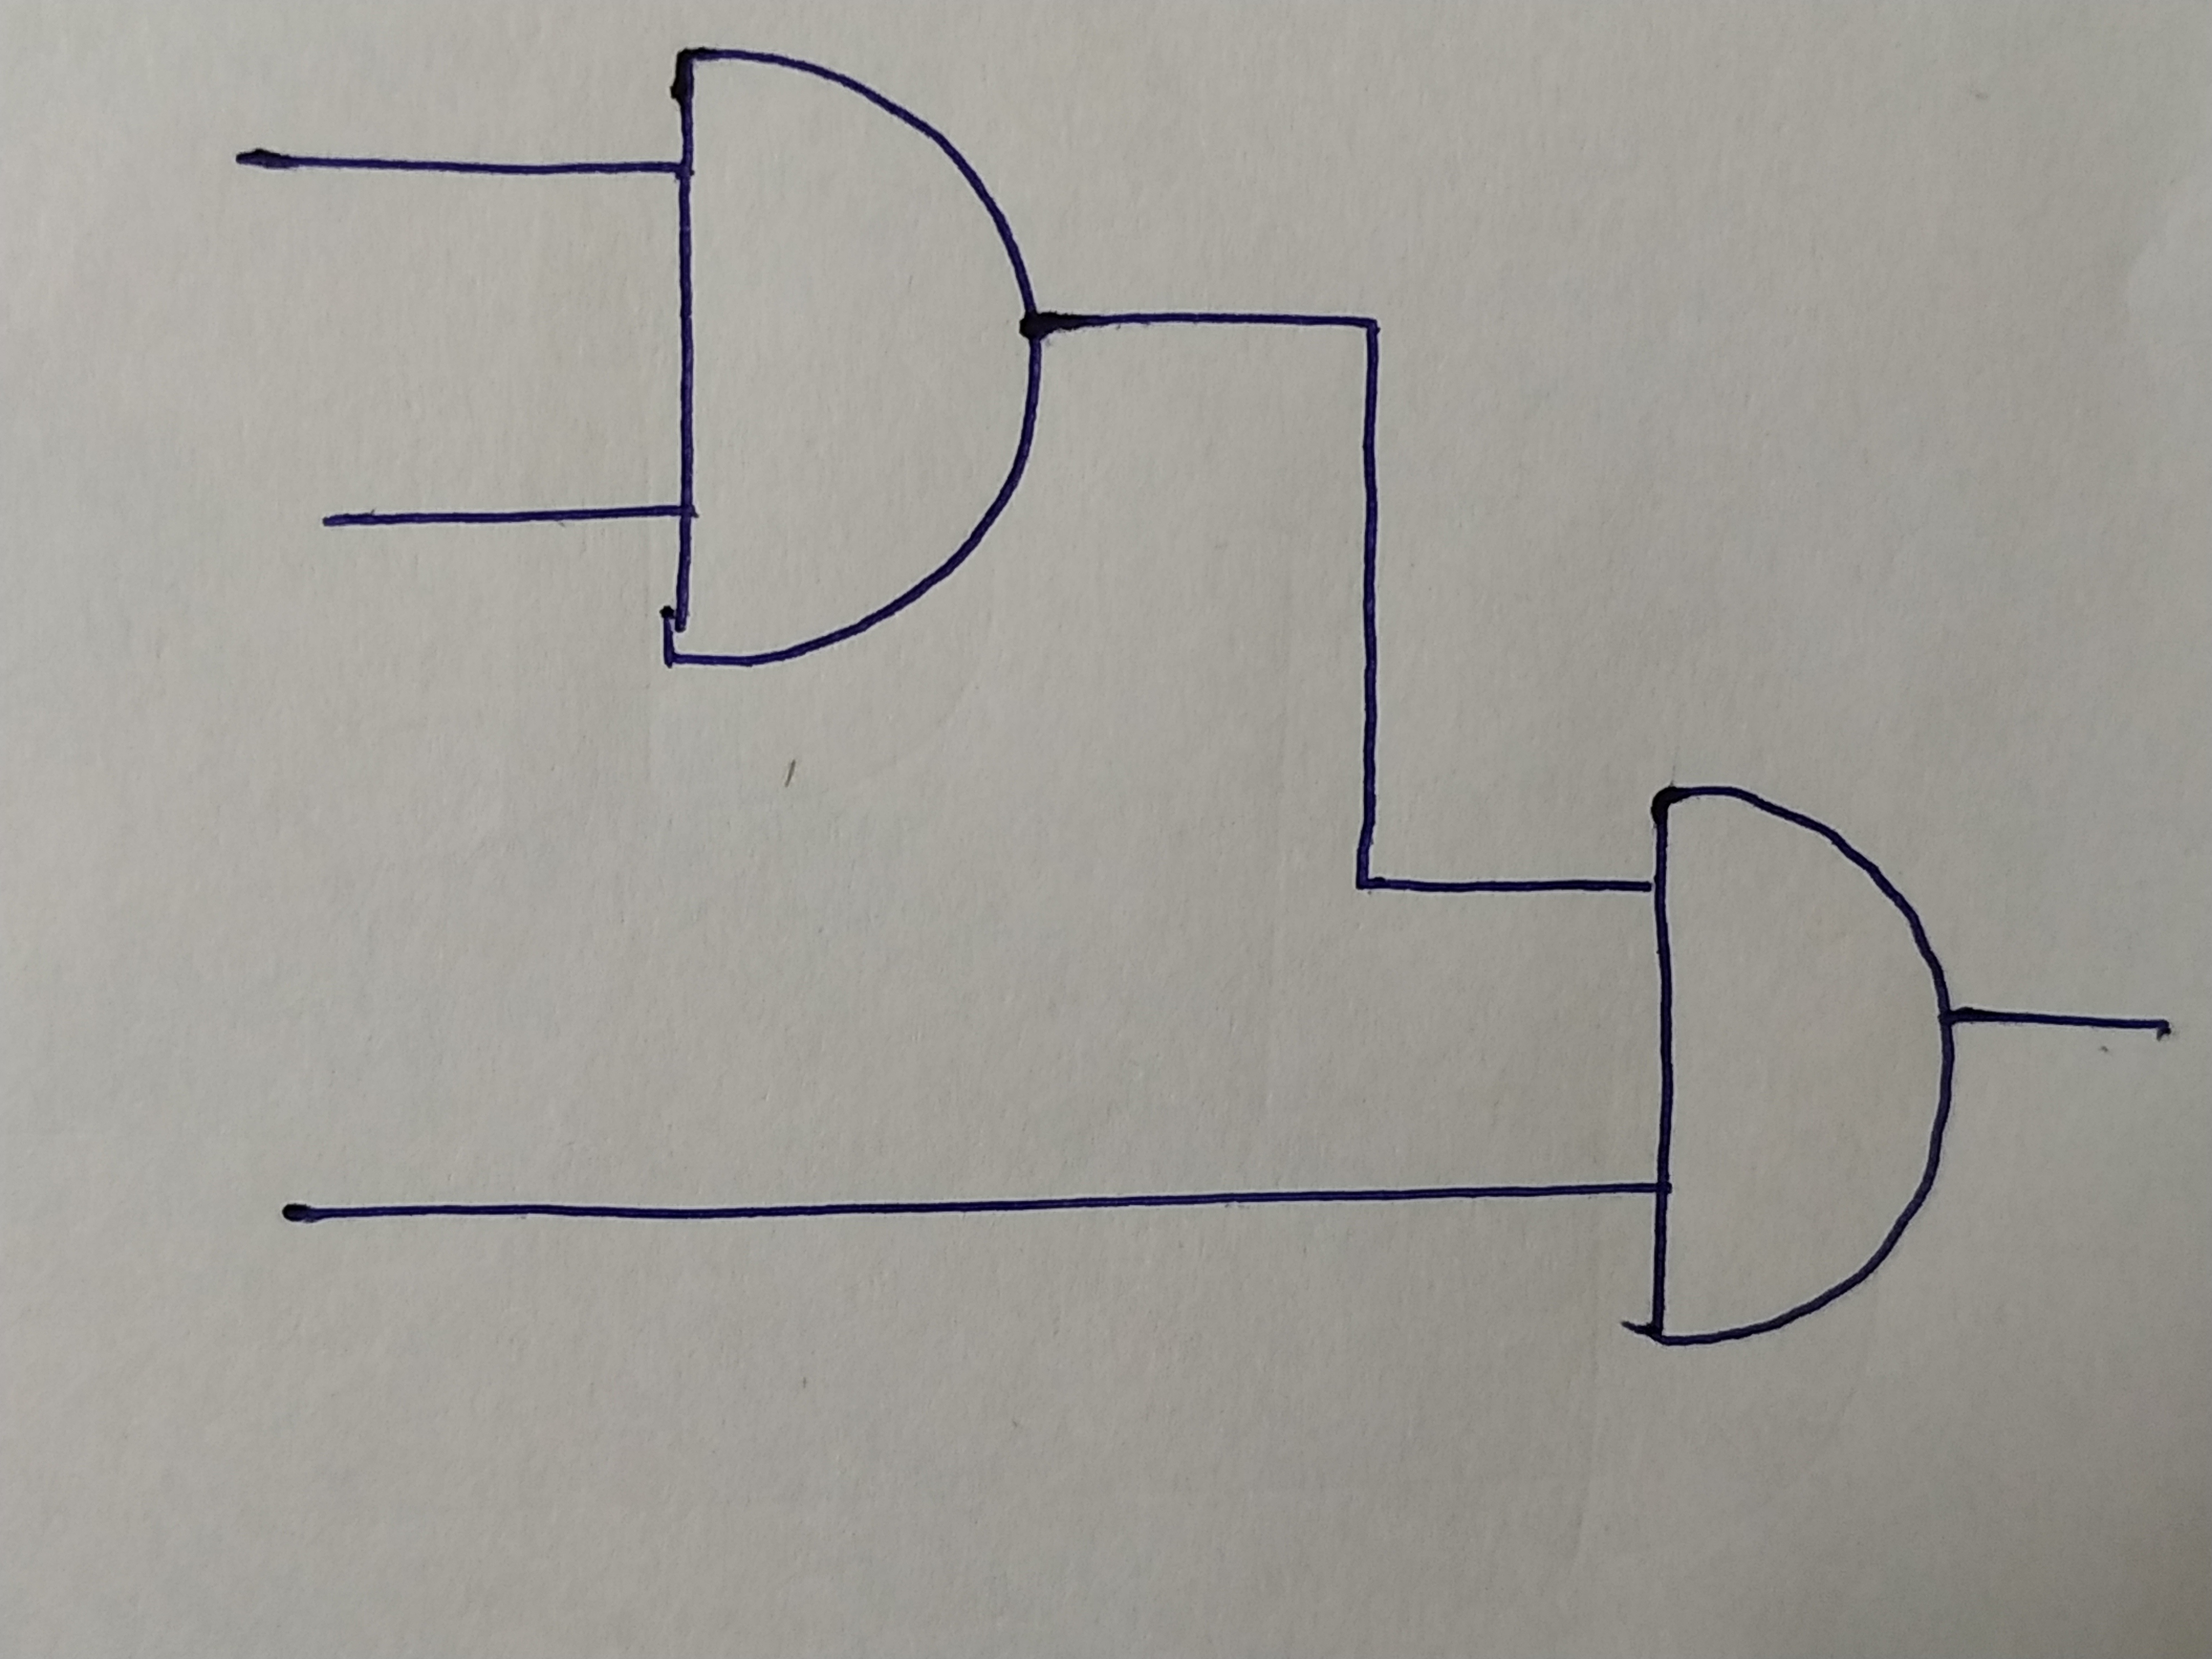and: (665, 45, 1029, 673), (1646, 784, 1947, 1347)
